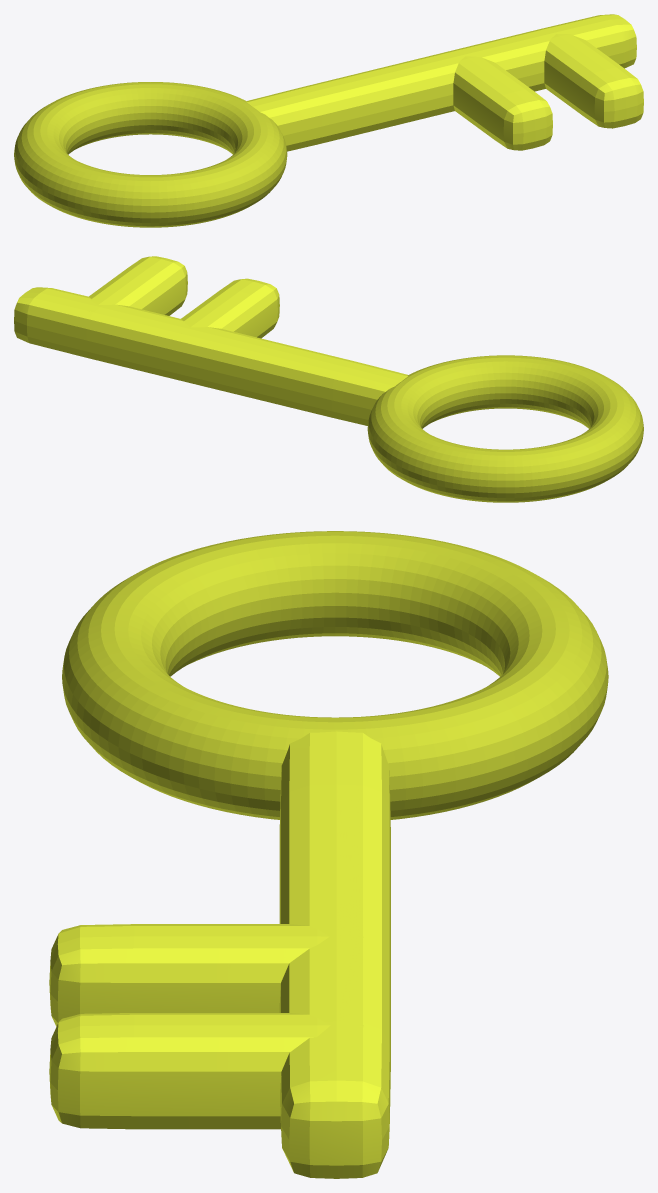
The model's file is Key.obj.
The picture shows the model from 3 angles, top to bottom: view 1: azimuth 30°, elevation 25°; view 2: azimuth 150°, elevation 25°; view 3: azimuth 270°, elevation 25°; orthographic projection. The views are drawn at different scales.
Visible parts, largest first — view 1: 立方体; view 2: 立方体; view 3: 立方体.
Boxes of the visible parts, x1,y1,x2,y2 form: 立方体: (14, 14, 643, 227); 立方体: (14, 256, 643, 502); 立方体: (49, 531, 608, 1178).
Bounding box in the file's own units: 1.46 × 0.1121 × 0.593.
Materials: 1 (1 with a texture image).
